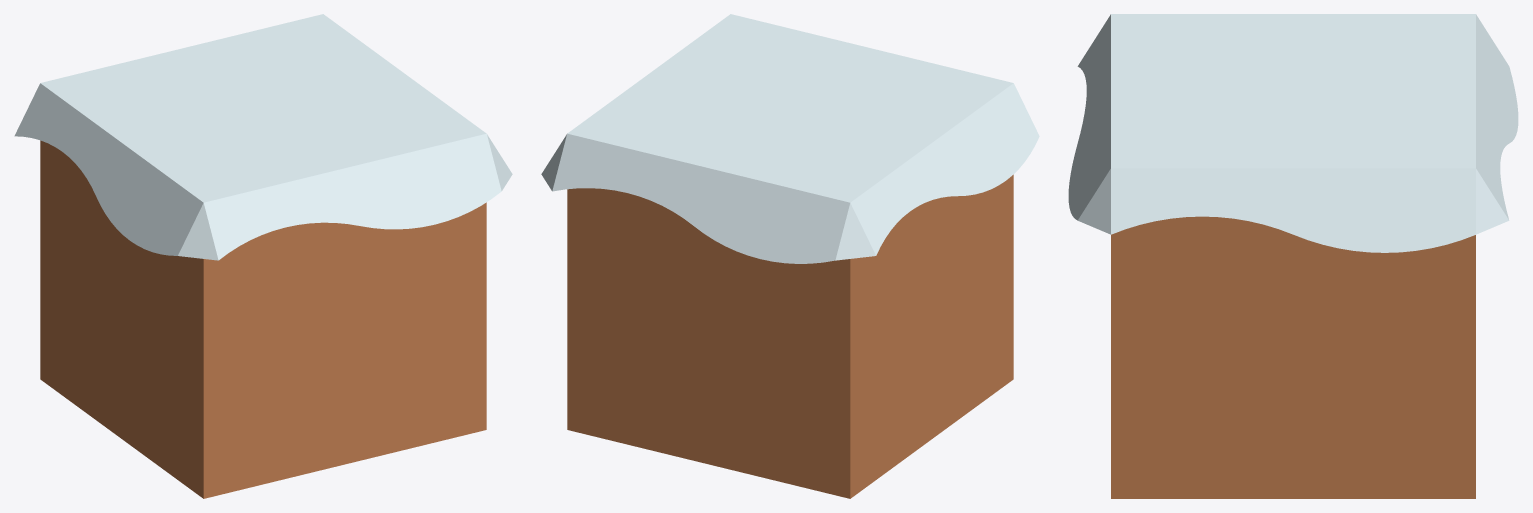
Rendered from blockSnow.fbx.
3 renders of one model, left to right at view 1: azimuth 30°, elevation 25°; view 2: azimuth 150°, elevation 25°; view 3: azimuth 270°, elevation 25°, orthographic. The views are drawn at different scales.
Parts seen in each view (by area): view 1: blockSnow; view 2: blockSnow; view 3: blockSnow.
Part boxes in pixels (x1,y1,x2,y2): blockSnow: [14, 14, 512, 498]; blockSnow: [541, 14, 1039, 498]; blockSnow: [1068, 14, 1518, 498].
Bounding box in the file's own units: 12.33 × 10 × 12.33.
